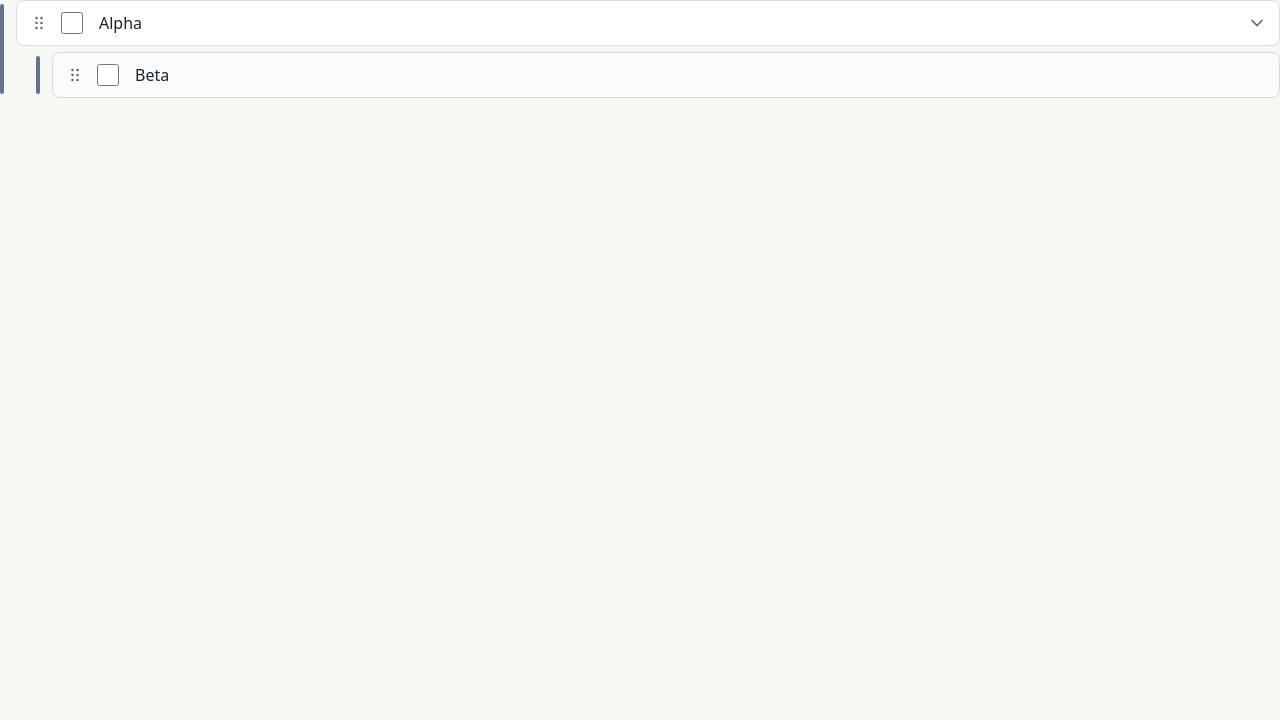
Test: deleting › cancel leaves everything untouched
Click the button "Alpha": x=121, y=23 [91,1,1235,45]
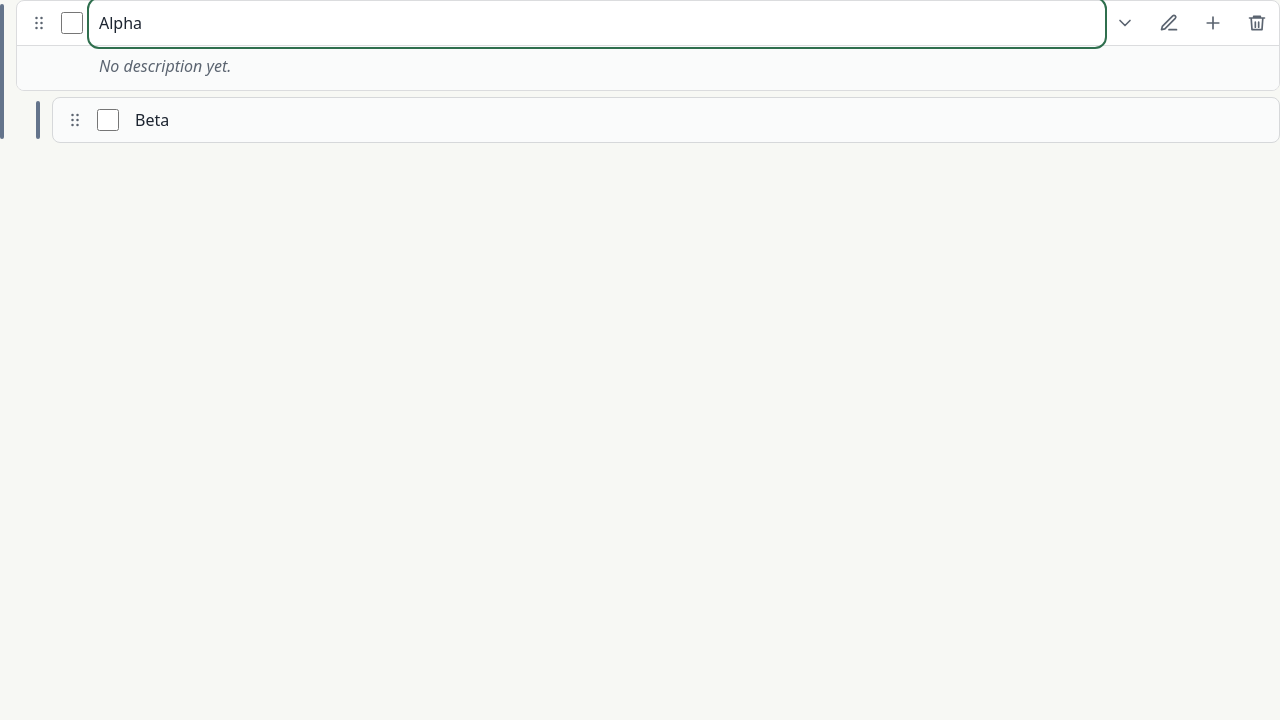
Click the button named "Delete Alpha": x=1257, y=23 [1235,1,1279,45]
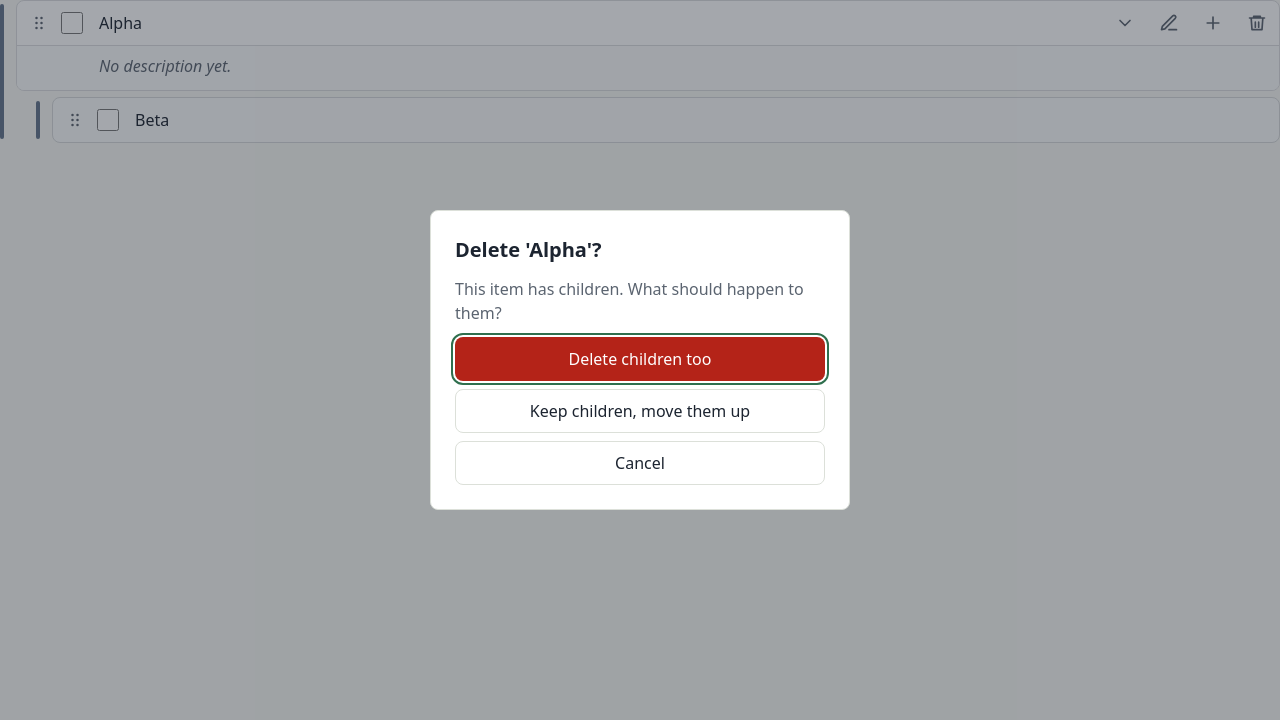
Click the button "Cancel": x=640, y=463 [455,441,825,485]
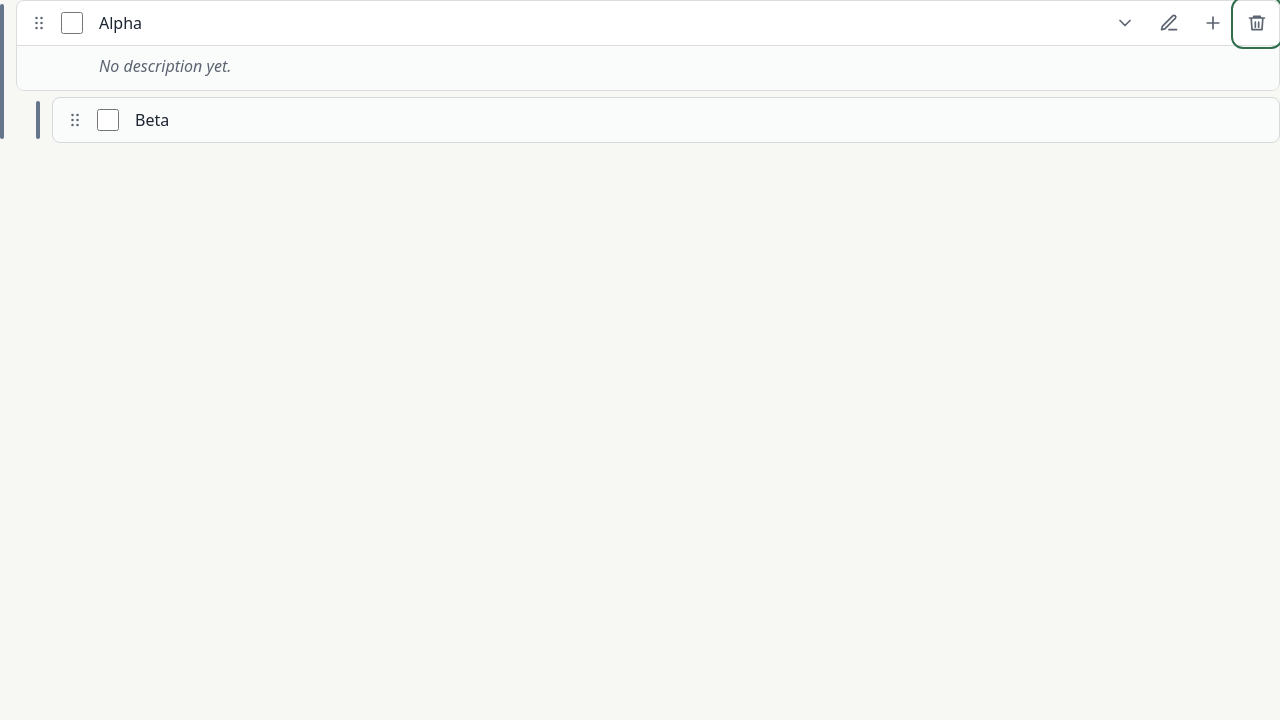
Check: the dialog is gone
